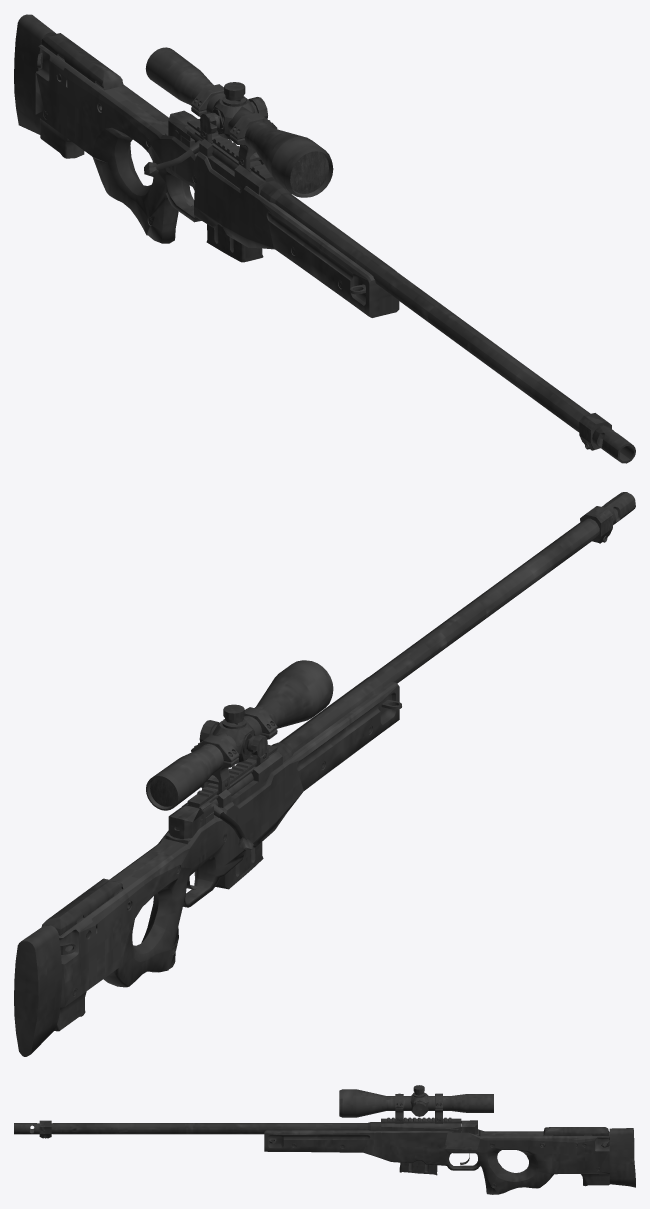
File: Sniper.obj
The picture shows the model from 3 angles, top to bottom: view 1: azimuth 30°, elevation 25°; view 2: azimuth 150°, elevation 25°; view 3: azimuth 270°, elevation 25°; orthographic projection. The views are drawn at different scales.
Parts seen in each view (by area): view 1: polySurface9; view 2: polySurface9; view 3: polySurface9.
Boxes of the visible parts, box(x1,y1,x2,y2) form: polySurface9: box(14, 14, 635, 463); polySurface9: box(14, 492, 635, 1056); polySurface9: box(14, 1085, 635, 1194).
Size of the model in its own units: 0.4953 by 1.2 by 6.37.
